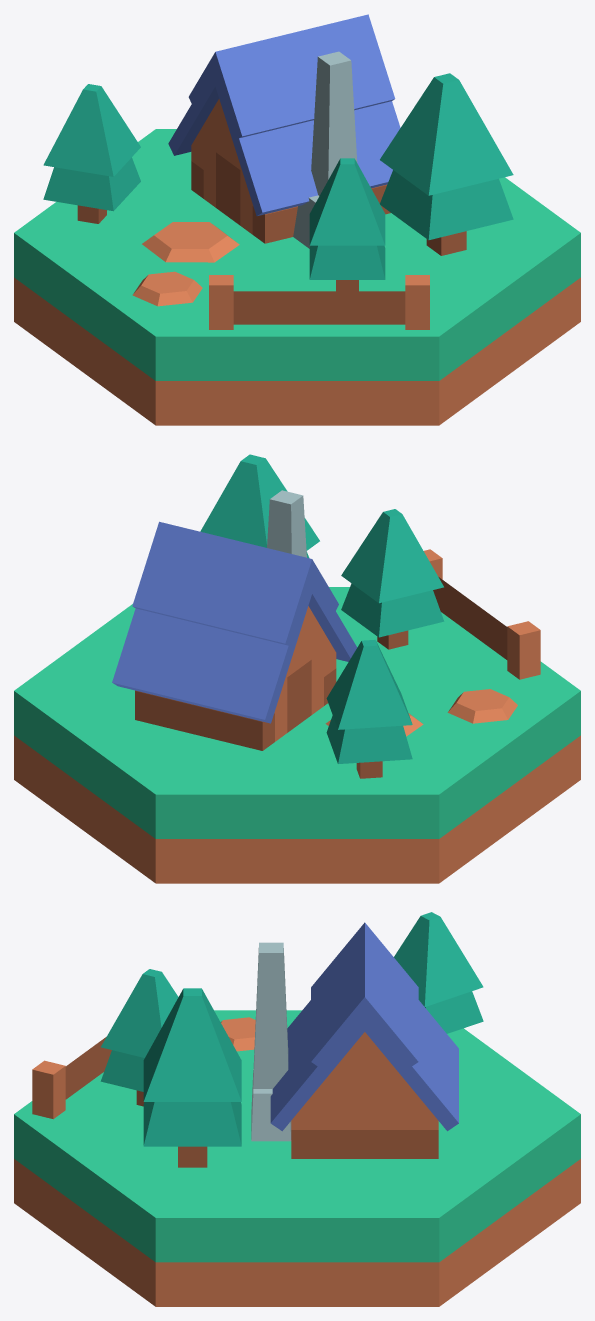
File: building_house.fbx
The picture shows the model from 3 angles, top to bottom: view 1: azimuth 30°, elevation 25°; view 2: azimuth 150°, elevation 25°; view 3: azimuth 270°, elevation 25°; orthographic projection.
Parts seen in each view (by area): view 1: building_house, tree (×3), building, fence, chimney, path (×2); view 2: building_house, building, tree (×3), fence, chimney, path; view 3: building_house, building, tree (×3), chimney, fence, path.
Part boxes in pixels (box(x1,y1,x2,y2)): building_house: box(14, 129, 580, 425); tree (×3): box(43, 73, 513, 291); building: box(168, 14, 400, 243); fence: box(209, 275, 429, 329); chimney: box(293, 51, 357, 248); path (×2): box(132, 222, 239, 306); building_house: box(14, 587, 580, 883); building: box(112, 521, 357, 750); tree (×3): box(200, 454, 444, 778); fence: box(424, 549, 540, 679); chimney: box(267, 490, 306, 557); path: box(448, 689, 517, 723); building_house: box(14, 1010, 580, 1306); building: box(270, 922, 458, 1158); tree (×3): box(100, 912, 483, 1167); chimney: box(251, 942, 291, 1141); fence: box(32, 1037, 111, 1119); path: box(221, 1017, 255, 1051).
Bounding box in the file's own units: 10 × 6 × 11.55.
